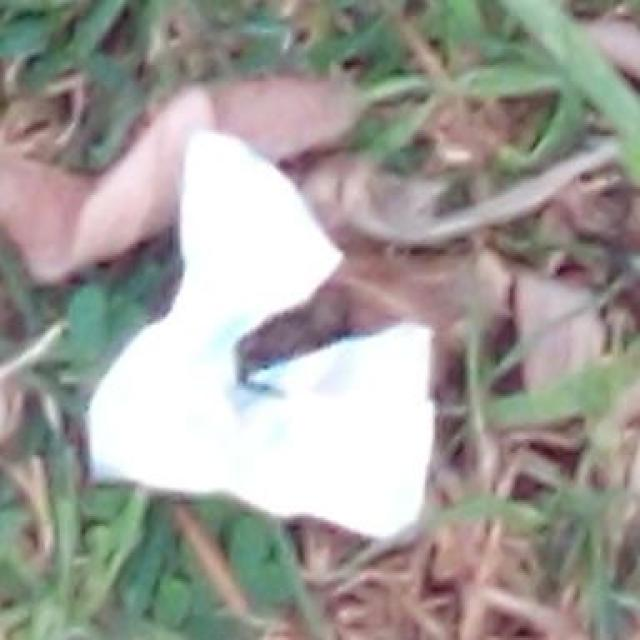litter: (87, 130, 437, 551)
